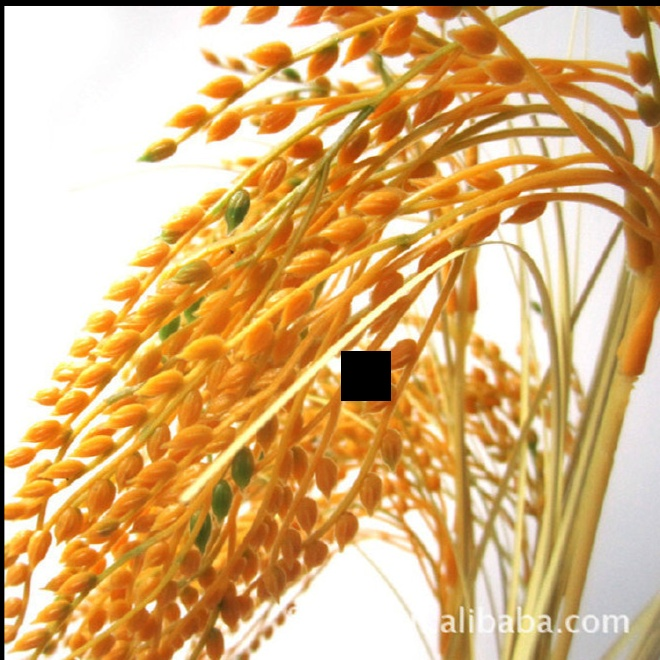rice: (20, 18, 549, 637)
